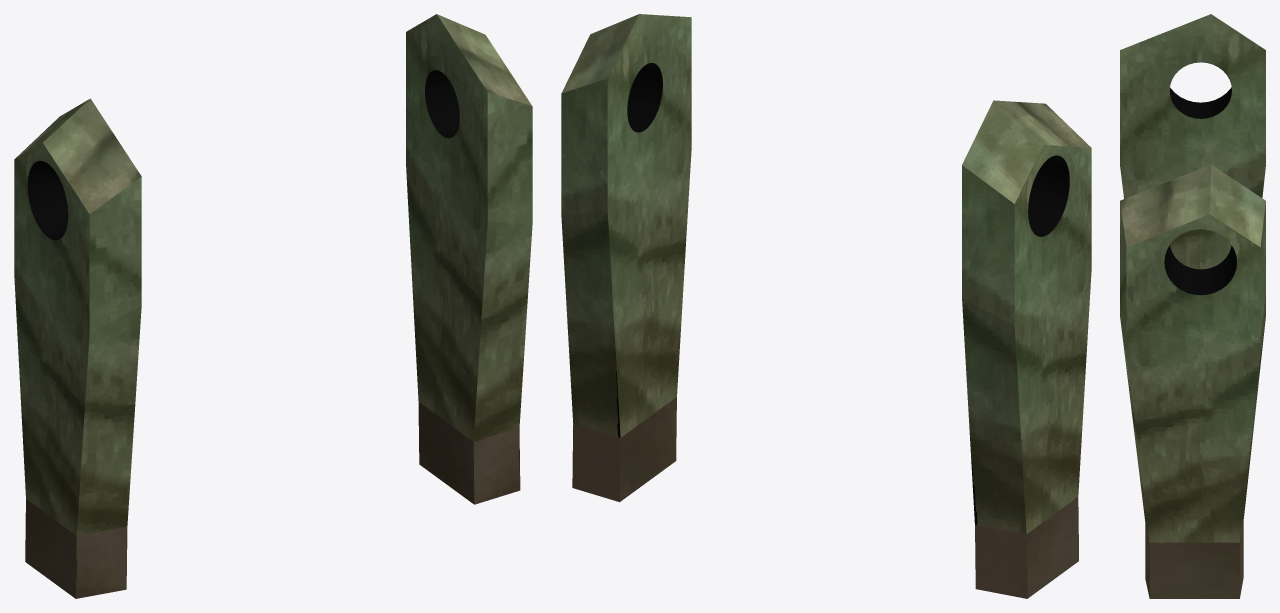
File: braco2.fbx
The picture shows the model from 3 angles, left to right: view 1: azimuth 30°, elevation 25°; view 2: azimuth 150°, elevation 25°; view 3: azimuth 270°, elevation 25°; orthographic projection. The views are drawn at different scales.
Parts seen in each view (by area): view 1: Arm; view 2: Arm; view 3: Arm.
Boxes of the visible parts, left/top/right/bottom form: Arm: left=14, top=14, right=532, bottom=598; Arm: left=561, top=14, right=1091, bottom=598; Arm: left=1120, top=14, right=1265, bottom=598.
Bounding box in the file's own units: 718 × 716 × 229.
